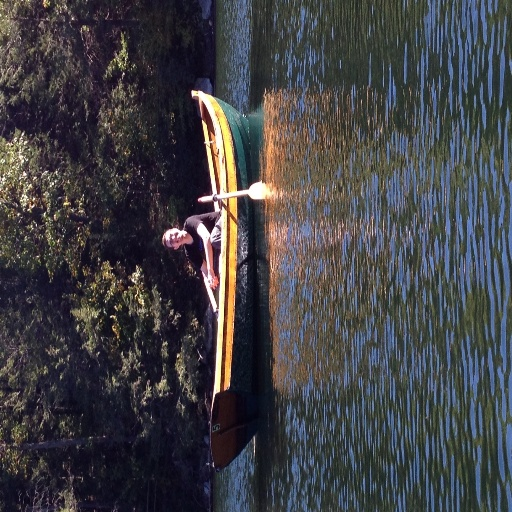hand: (205, 271, 219, 285), (205, 278, 218, 291)
